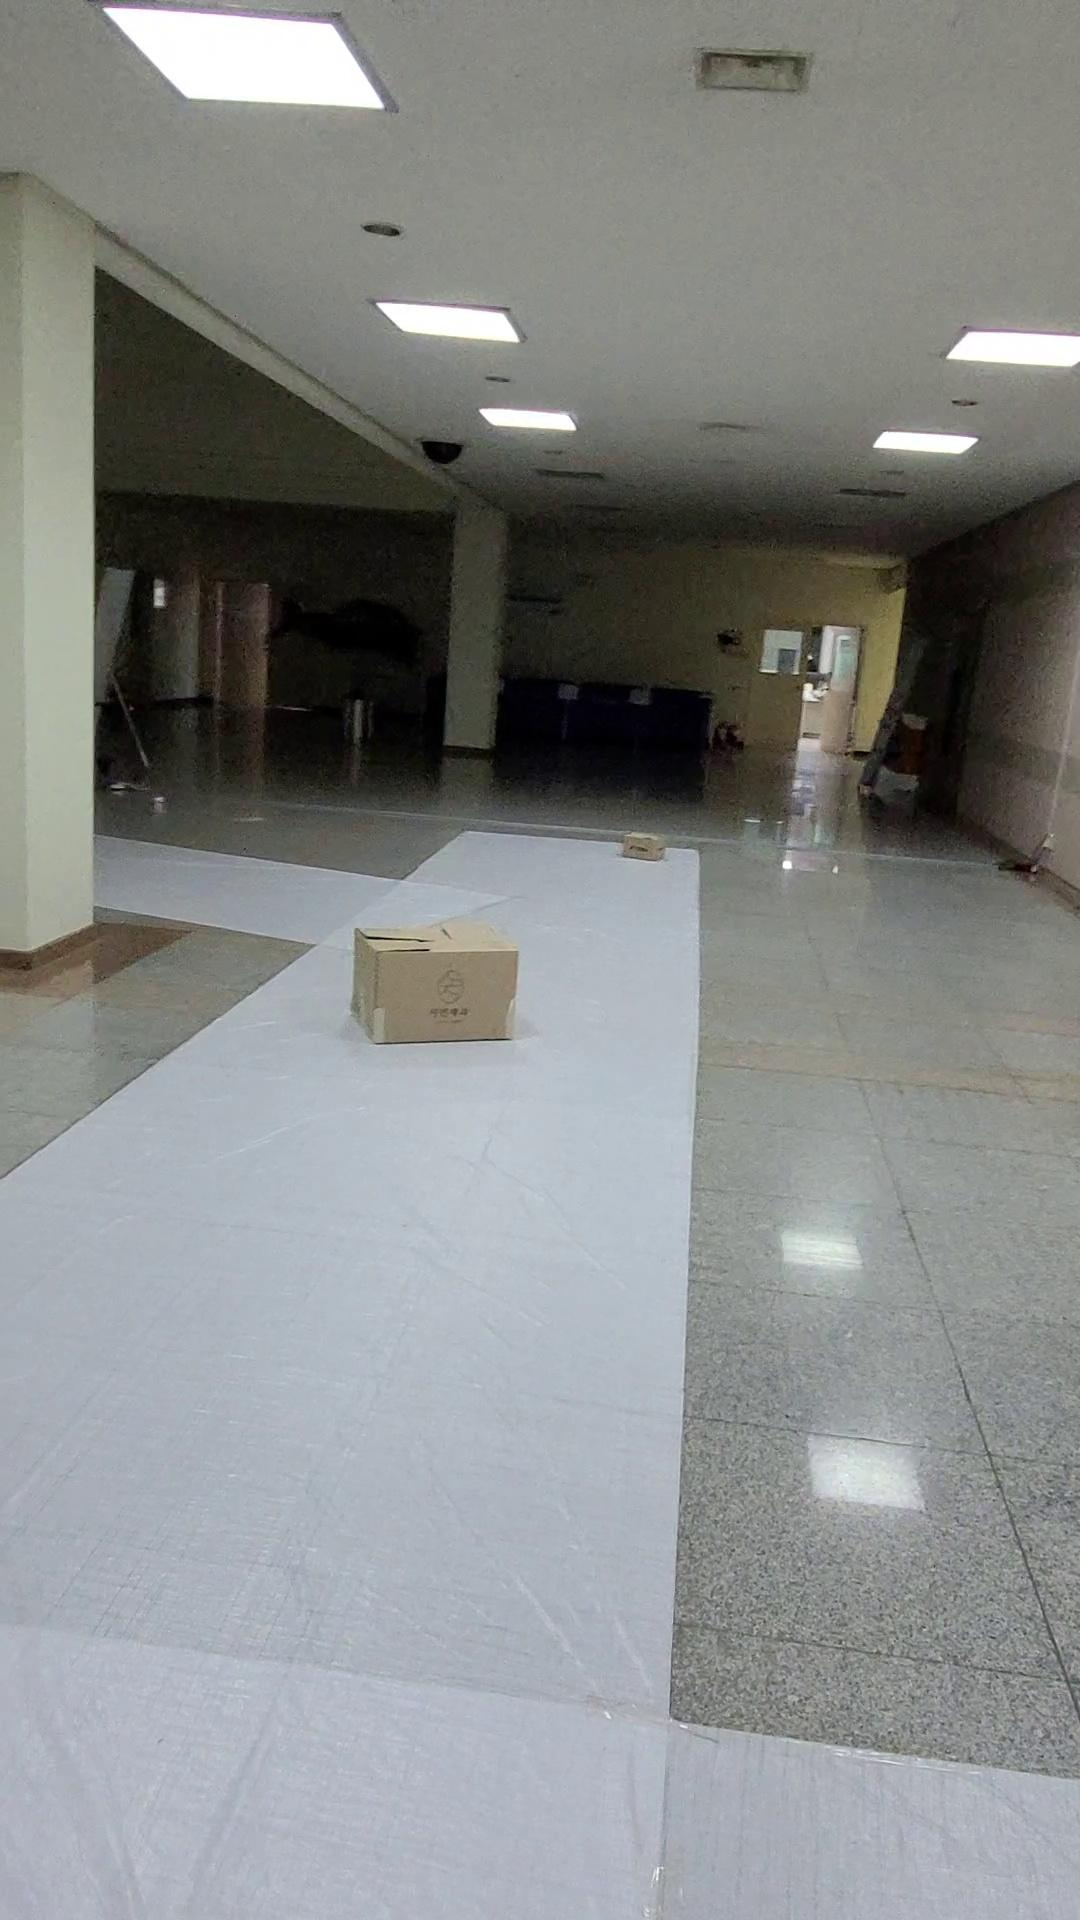Box: (328, 905, 558, 1095), (611, 814, 682, 898)
